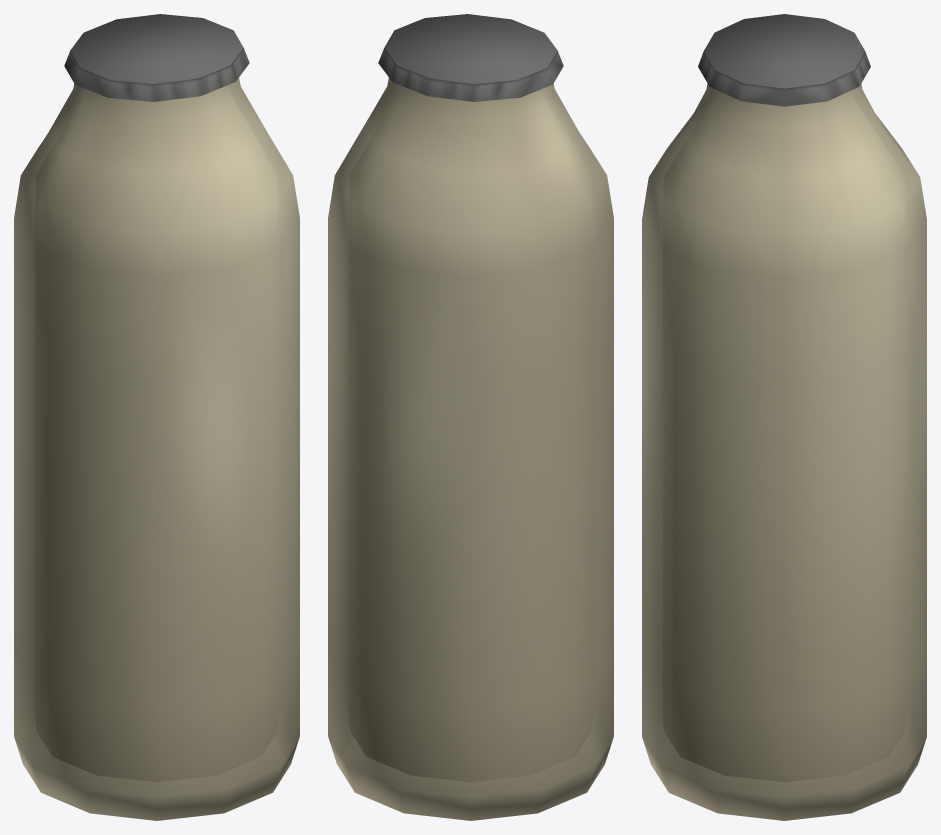
Rendered from drink02a.fbx.
3 renders of one model, left to right at view 1: azimuth 30°, elevation 25°; view 2: azimuth 150°, elevation 25°; view 3: azimuth 270°, elevation 25°, orthographic.
Visible parts, largest first — view 1: drink02a; view 2: drink02a; view 3: drink02a.
Part boxes in pixels (<box>): drink02a: <box>14,14,299,820</box>; drink02a: <box>328,14,613,820</box>; drink02a: <box>642,14,926,820</box>.
Bounding box in the file's own units: 7.1 × 19.62 × 7.1.
